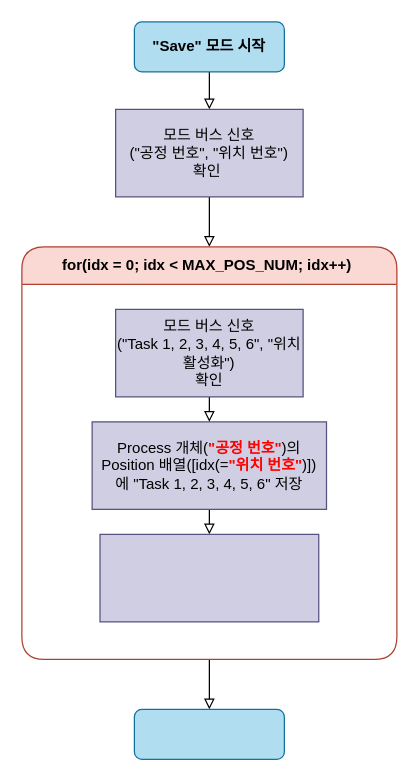
Some shapes in this 419 by 781 pixel diagram are drawn without their labels. The shapes that lost their labels are listed below. From the top down, each one's box as (x1, y1, x2, y2) in pixels, then its label:
(99, 533, 319, 622): Process 개체에 "위치 활성화" 신호(ON/OFF)를 저장
(133, 708, 284, 759): "Save" 모드 종료
